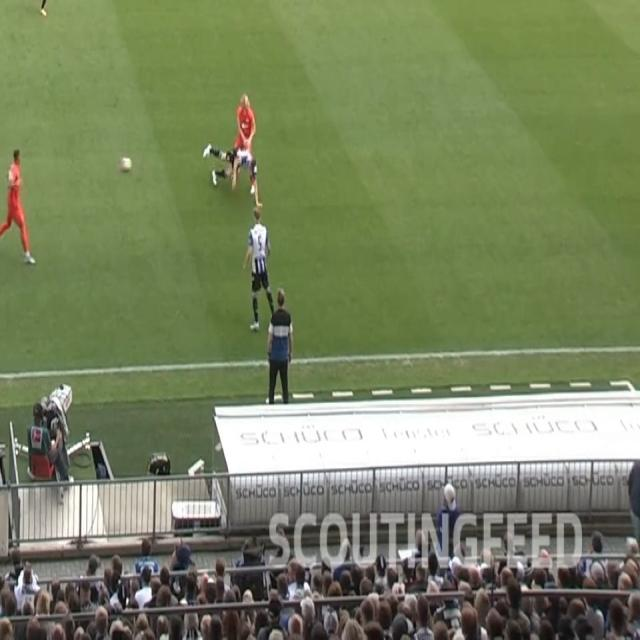ball: (116, 154, 133, 174)
